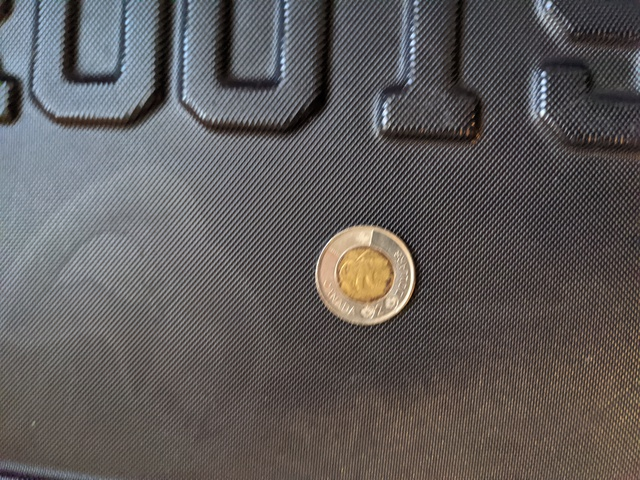twonie: (310, 216, 416, 324)
